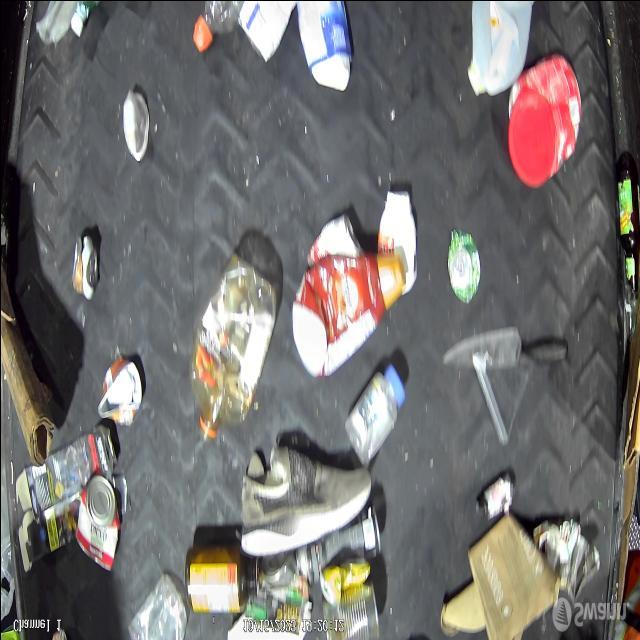can: (294, 501, 382, 585), (74, 471, 120, 574), (320, 578, 380, 640), (94, 353, 144, 426), (306, 210, 364, 268), (446, 227, 482, 305), (70, 230, 99, 299), (260, 548, 298, 596)
milk_jug: (464, 0, 536, 101)
non_white_jug: (188, 250, 278, 446), (290, 248, 406, 380), (506, 48, 582, 190)
